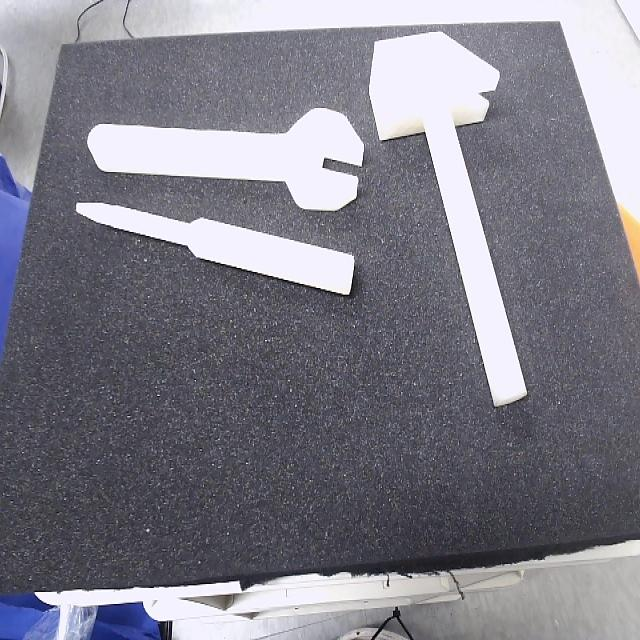Driver: (77, 203, 355, 296)
Hammer: (369, 32, 528, 411)
Spanner: (86, 108, 365, 211)
